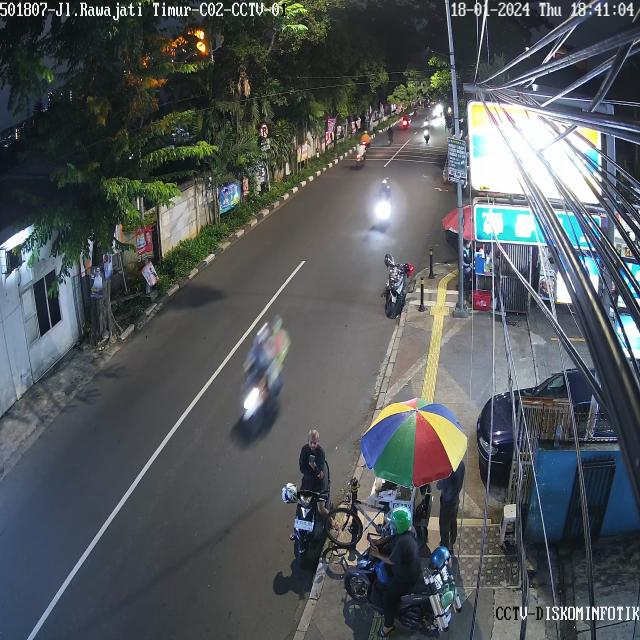Payung: (355, 396, 473, 489), (448, 203, 472, 239)
Sepeda-motor: (331, 478, 433, 549)
